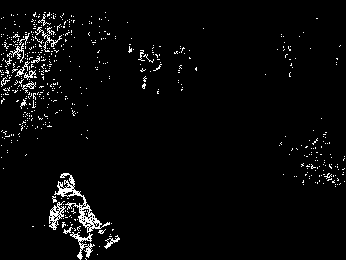person: (49, 171, 120, 260)
